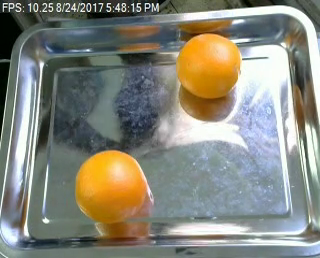Orange: (75, 149, 147, 223), (176, 34, 242, 99)
